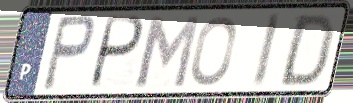D: (275, 12, 337, 89)
I: (250, 11, 284, 90)
M: (133, 13, 203, 90)
O: (189, 14, 238, 89)
P: (86, 14, 147, 92), (39, 14, 97, 94)
